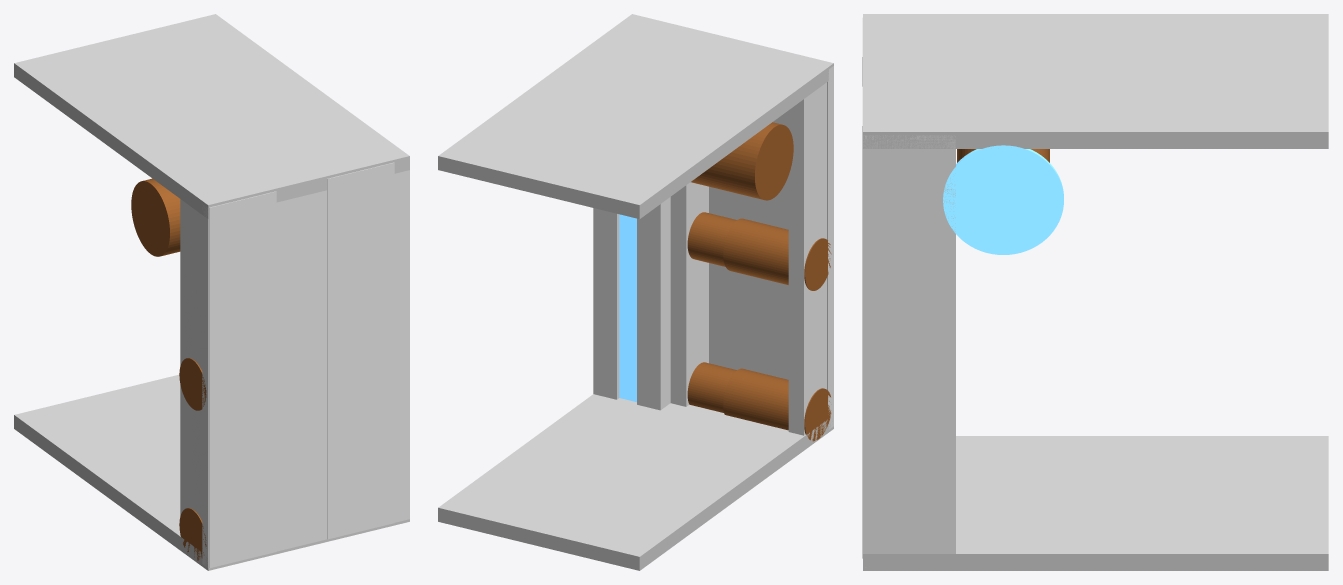
The model's file is SFcorridorPattern1.fbx.
The picture shows the model from 3 angles, left to right: view 1: azimuth 30°, elevation 25°; view 2: azimuth 150°, elevation 25°; view 3: azimuth 270°, elevation 25°; orthographic projection. The views are drawn at different scales.
Parts seen in each view (by area): view 1: 立方体.011, 立方体.015, 立方体.003, 立方体.014, 立方体, 立方体.012, 円柱.010, 円柱.006, 円柱.008; view 2: 立方体.011, 立方体, 立方体.014, 立方体.012, 立方体.015, 立方体.003, 円柱.006, 円柱.008, 円柱.010, 立方体.009; view 3: 立方体.011, 立方体, 立方体.012, 円柱.005, 立方体.014.
Boxes of the visible parts, x1=… form: 立方体.011: x1=14, y1=14, x2=409, y2=218; 立方体.015: x1=180, y1=191, x2=276, y2=568; 立方体.003: x1=327, y1=162, x2=394, y2=539; 立方体.014: x1=202, y1=172, x2=409, y2=568; 立方体: x1=14, y1=374, x2=409, y2=570; 立方体.012: x1=394, y1=170, x2=409, y2=522; 円柱.010: x1=131, y1=178, x2=180, y2=256; 円柱.006: x1=179, y1=358, x2=206, y2=410; 円柱.008: x1=179, y1=508, x2=206, y2=560; 立方体.011: x1=438, y1=14, x2=833, y2=219; 立方体: x1=438, y1=394, x2=833, y2=570; 立方体.014: x1=709, y1=66, x2=833, y2=429; 立方体.012: x1=593, y1=197, x2=670, y2=410; 立方体.015: x1=788, y1=82, x2=826, y2=435; 立方体.003: x1=670, y1=182, x2=708, y2=406; 円柱.006: x1=687, y1=212, x2=831, y2=290; 円柱.008: x1=687, y1=362, x2=831, y2=441; 円柱.010: x1=691, y1=122, x2=793, y2=200; 立方体.009: x1=619, y1=214, x2=636, y2=402; 立方体.011: x1=863, y1=14, x2=1328, y2=148; 立方体: x1=863, y1=436, x2=1328, y2=570; 立方体.012: x1=863, y1=135, x2=955, y2=553; 円柱.005: x1=943, y1=145, x2=1063, y2=254; 立方体.014: x1=863, y1=135, x2=876, y2=567.
Bounding box in the file's own units: 300 × 520 × 501.
